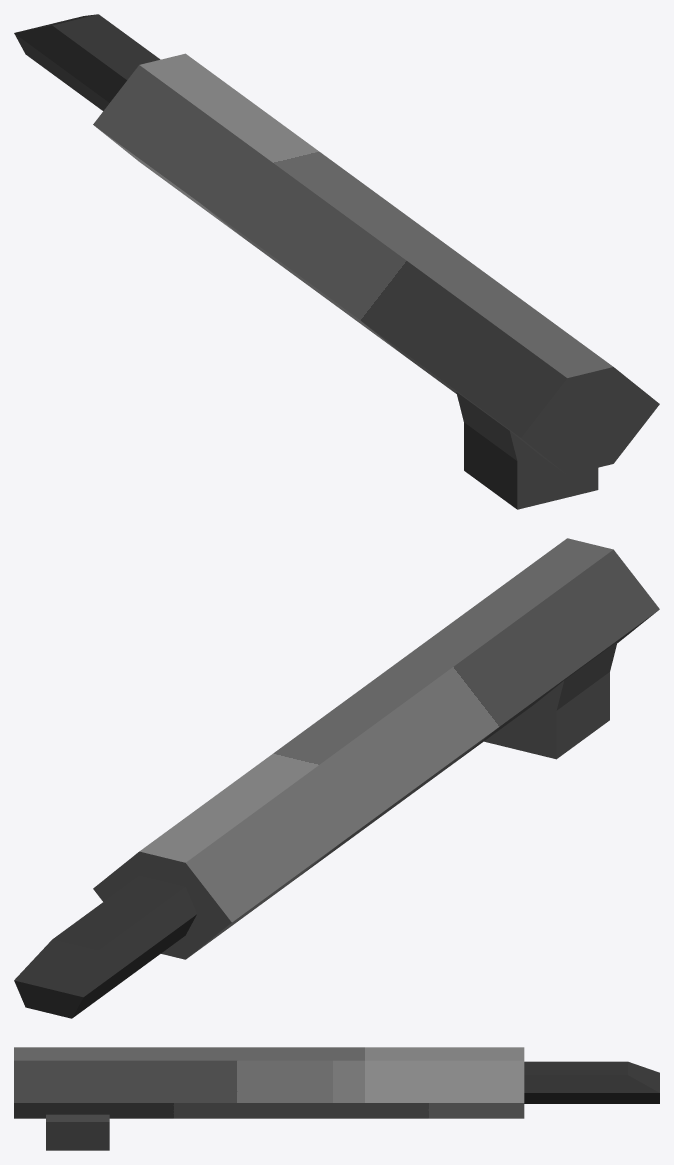
Rendered from assault_empty.gltf.
The picture shows the model from 3 angles, top to bottom: view 1: azimuth 30°, elevation 25°; view 2: azimuth 150°, elevation 25°; view 3: azimuth 270°, elevation 25°; orthographic projection. The views are drawn at different scales.
Parts seen in each view (by area): view 1: mesh (×3); view 2: mesh (×3); view 3: mesh (×3).
Boxes of the visible parts, x1,y1,x2,y2 form: mesh (×3): (14, 14, 659, 509); mesh (×3): (14, 538, 659, 1018); mesh (×3): (14, 1047, 659, 1150).
Size of the model in its own units: 0.1875 by 0.1875 by 1.27.
Materials: 1 (1 with a texture image).
